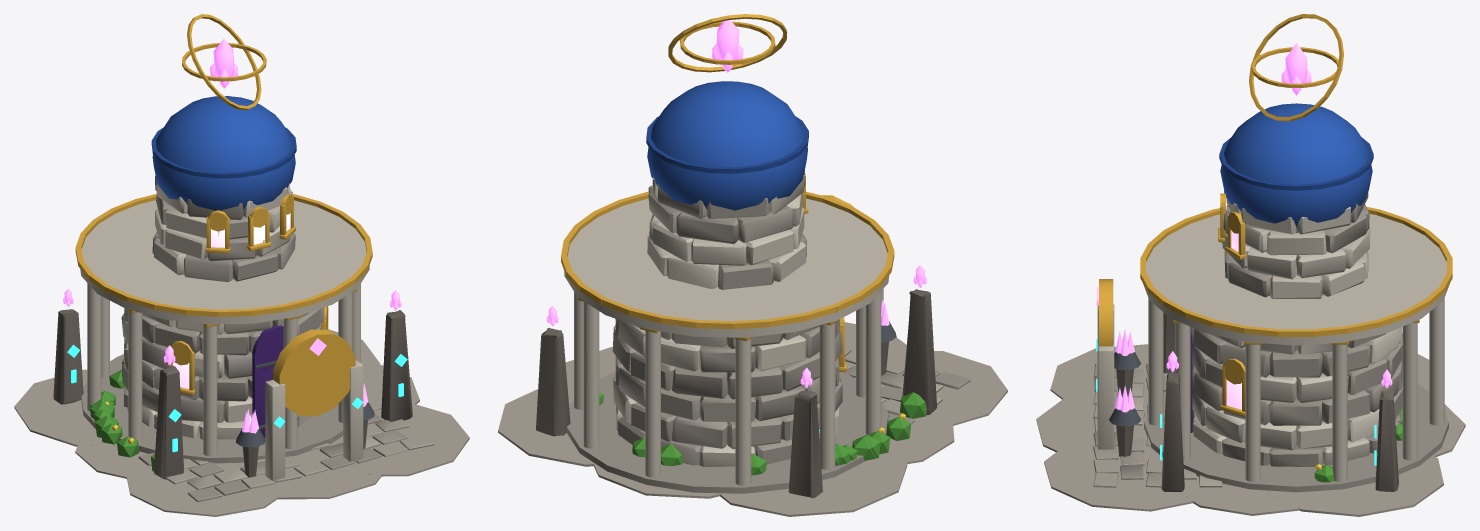
Rendered from budynek_fuzji_poz18.glb.
3 renders of one model, left to right at view 1: azimuth 30°, elevation 25°; view 2: azimuth 150°, elevation 25°; view 3: azimuth 270°, elevation 25°, orthographic. The views are drawn at different scales.
Visible parts, largest first — view 1: budynek_fuzji_poz18; view 2: budynek_fuzji_poz18; view 3: budynek_fuzji_poz18.
Boxes of the visible parts, x1,y1,x2,y2 form: budynek_fuzji_poz18: [14, 14, 469, 516]; budynek_fuzji_poz18: [498, 14, 1007, 516]; budynek_fuzji_poz18: [1036, 14, 1465, 516].
Bounding box in the file's own units: 8.76 × 9.49 × 9.01.
